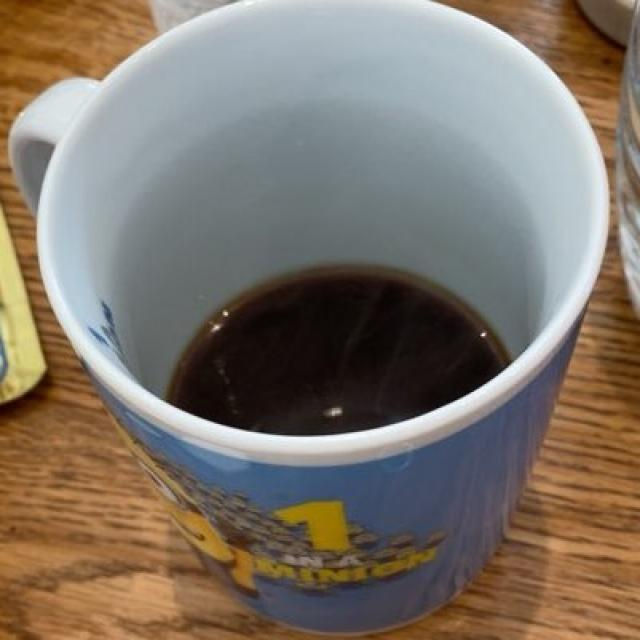coffee: (176, 266, 505, 431)
